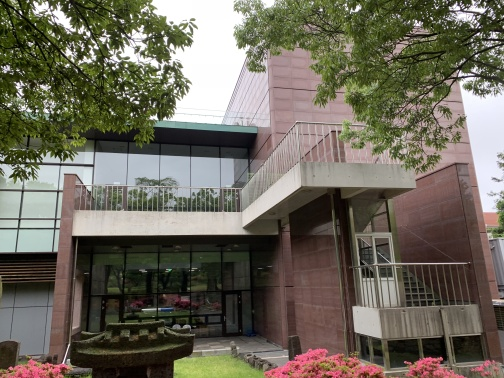Museum: (4, 113, 419, 372)
